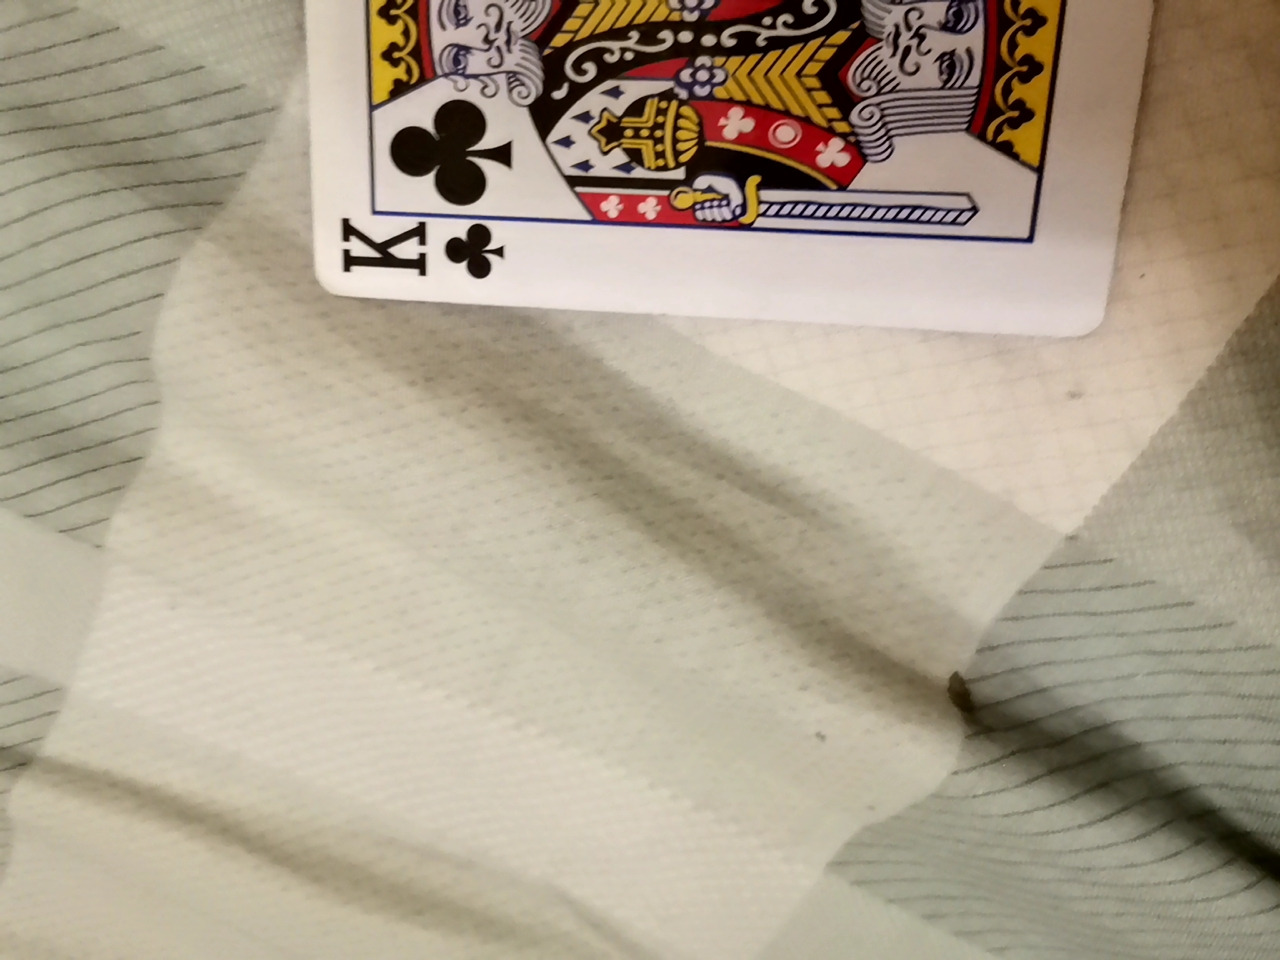mh k: (291, 0, 1158, 326)
